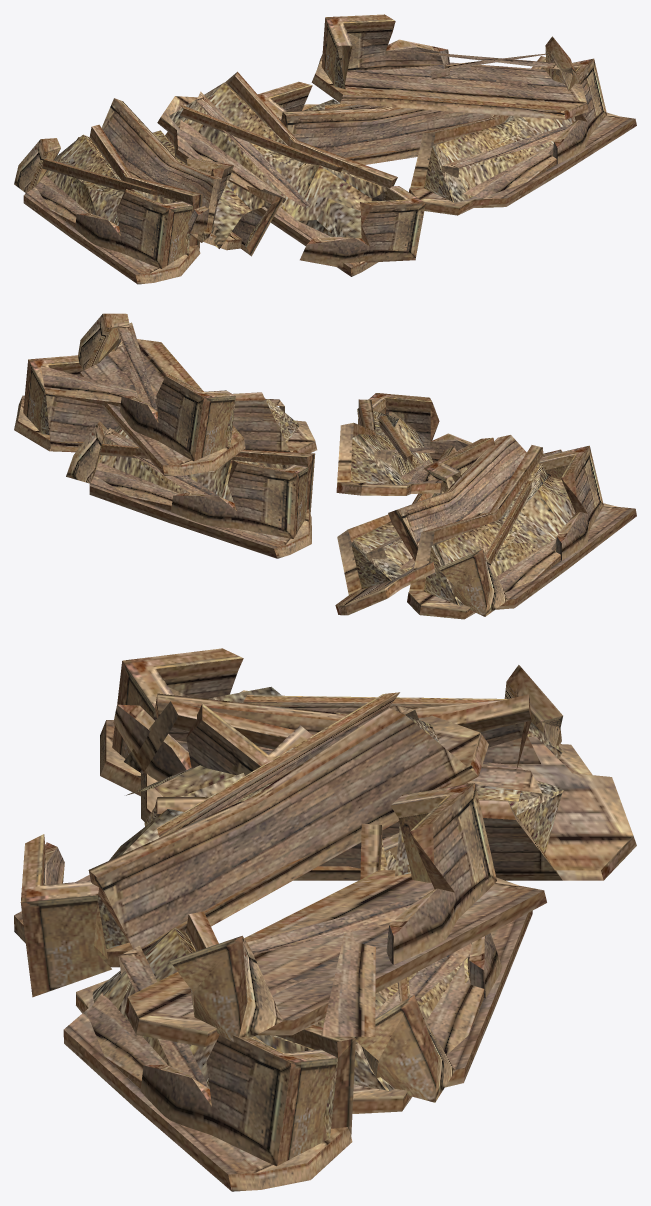
Rendered from wpnctx4.glb.
The picture shows the model from 3 angles, top to bottom: view 1: azimuth 30°, elevation 25°; view 2: azimuth 150°, elevation 25°; view 3: azimuth 270°, elevation 25°; orthographic projection. The views are drawn at different scales.
Parts seen in each view (by area): view 1: _wpnctx4; view 2: _wpnctx4; view 3: _wpnctx4.
Part boxes in pixels (box(x1,y1,x2,y2)): _wpnctx4: box(14, 14, 636, 284); _wpnctx4: box(14, 313, 636, 619); _wpnctx4: box(14, 648, 636, 1191).
Size of the model in its own units: 4.26 by 1.07 by 2.45.
1 material, 1 textured.
